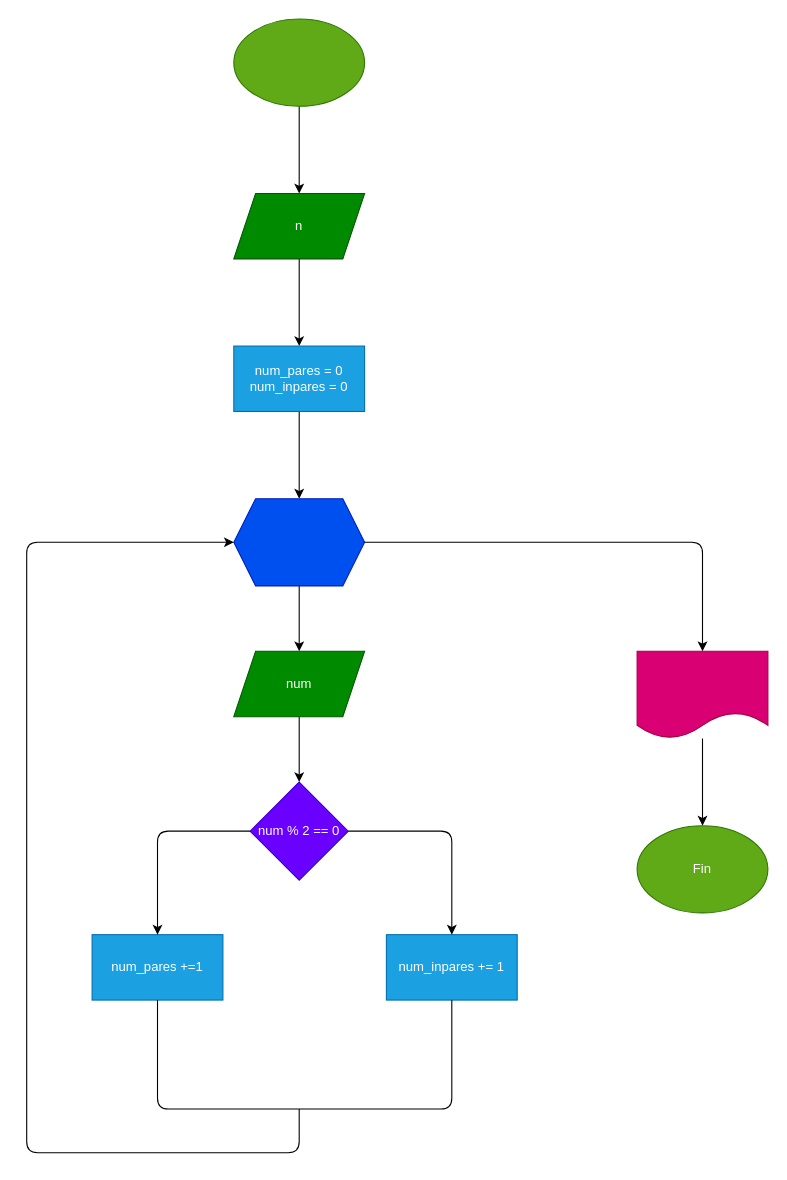
Image size: 787x1180. Some labels were removed from this diagram. The box of each missing label's shape, as (x1, y1, x2, y2) in pixels:
i in 0,n: (233, 498, 365, 586)
Inicio: (233, 18, 365, 106)
num_pares num_inpares: (636, 650, 768, 738)
